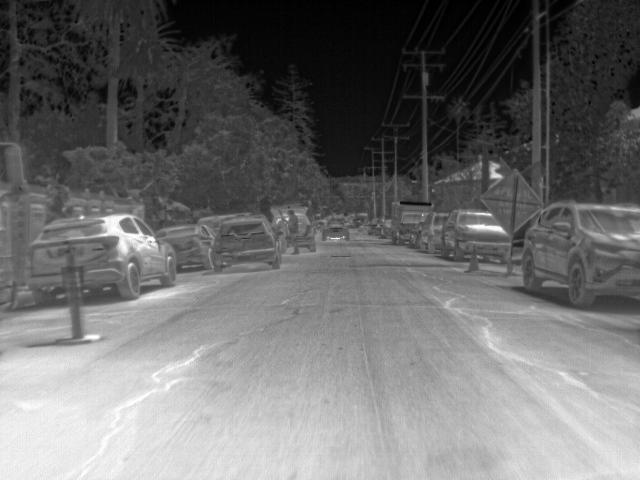car: (25, 212, 179, 306), (520, 199, 640, 311), (208, 213, 283, 276), (443, 207, 514, 265), (152, 222, 212, 269), (417, 212, 452, 255), (321, 213, 350, 242), (198, 214, 229, 239), (301, 212, 317, 253)
person: (285, 207, 301, 254)
